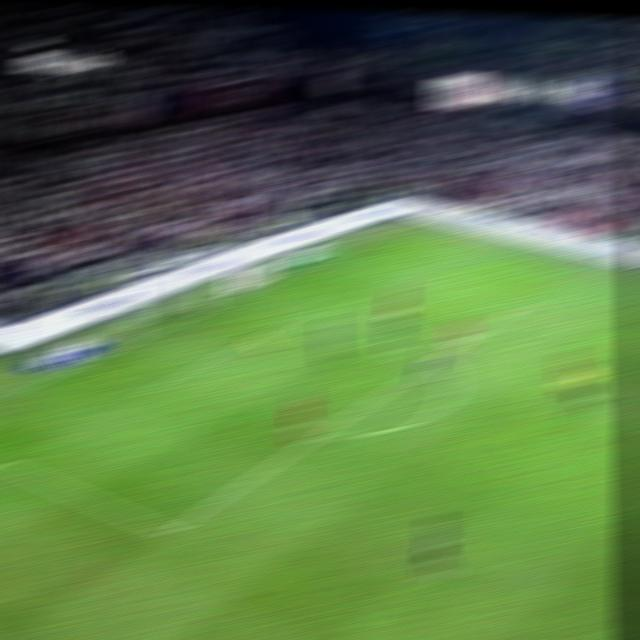bigarea_bottom_inner: (151, 517, 186, 544)
bigarea_top_inner: (502, 297, 533, 317)
bigarea_top_outter: (319, 250, 345, 263)
bottom_arc_area_intersection: (305, 425, 333, 444)
corner: (398, 219, 427, 230)
smallarea_bottom_inner: (130, 378, 159, 399)
smallarea_bottom_outter: (63, 358, 90, 373)
smallarea_top_inner: (297, 302, 324, 316)
smallarea_top_outter: (240, 284, 268, 298)
top_arc_area_intersection: (426, 349, 453, 366)
